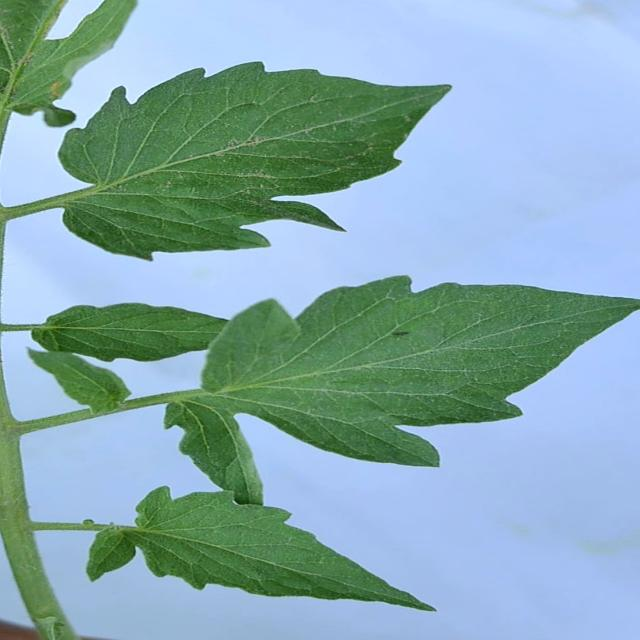healthy: (165, 271, 640, 502), (43, 58, 455, 260), (75, 482, 440, 634)
